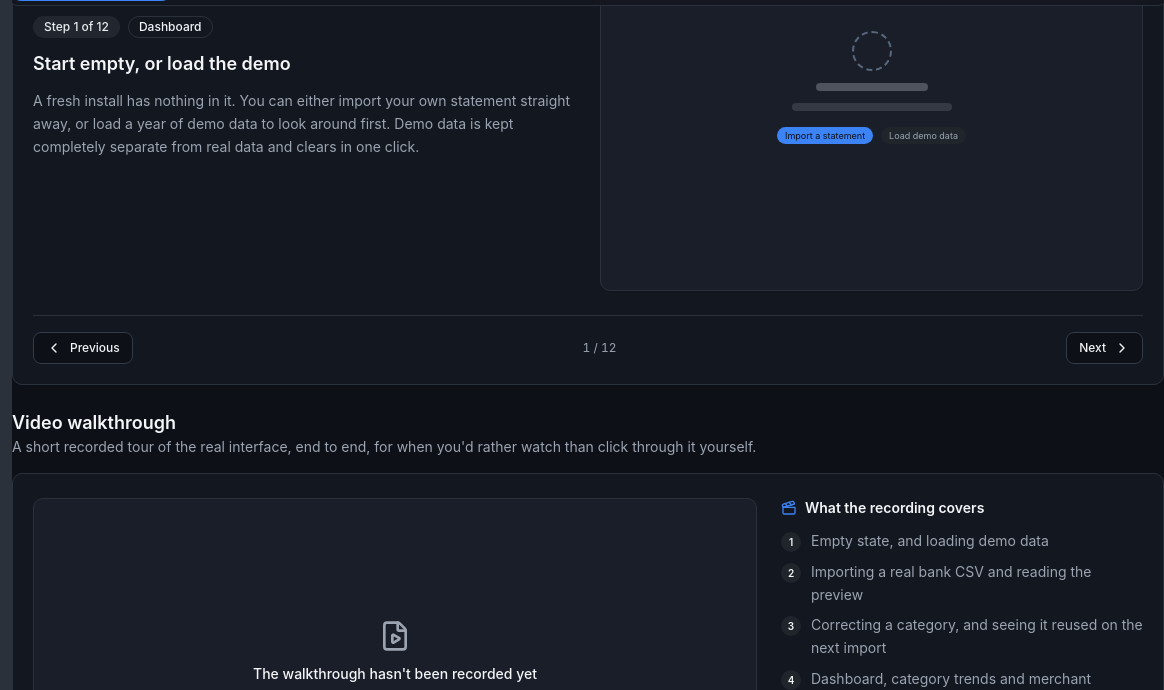
Scenario: HowItWorksPage › app walkthrough › starts on the first step and advances
The image size is (1164, 690).
(page scrolled)
Expected: the text "Step 1 of 12" is shown, [33,16,120,38]
Expected: the heading "Start empty, or load the demo" is shown, [33,53,291,74]
Click the button "Next": click(1105, 348) [1066,332,1143,364]
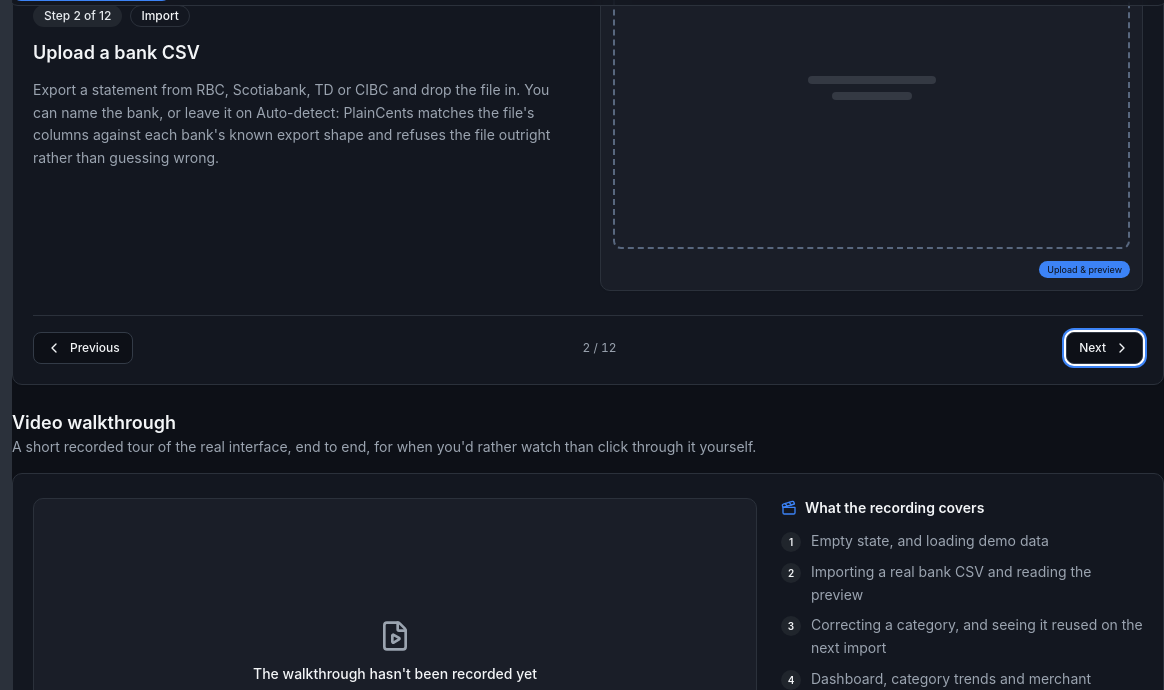
Now the text "Step 2 of 12" is shown, box [33,5,122,27]
Now the heading "Upload a bank CSV" is shown, box [33,42,200,63]
